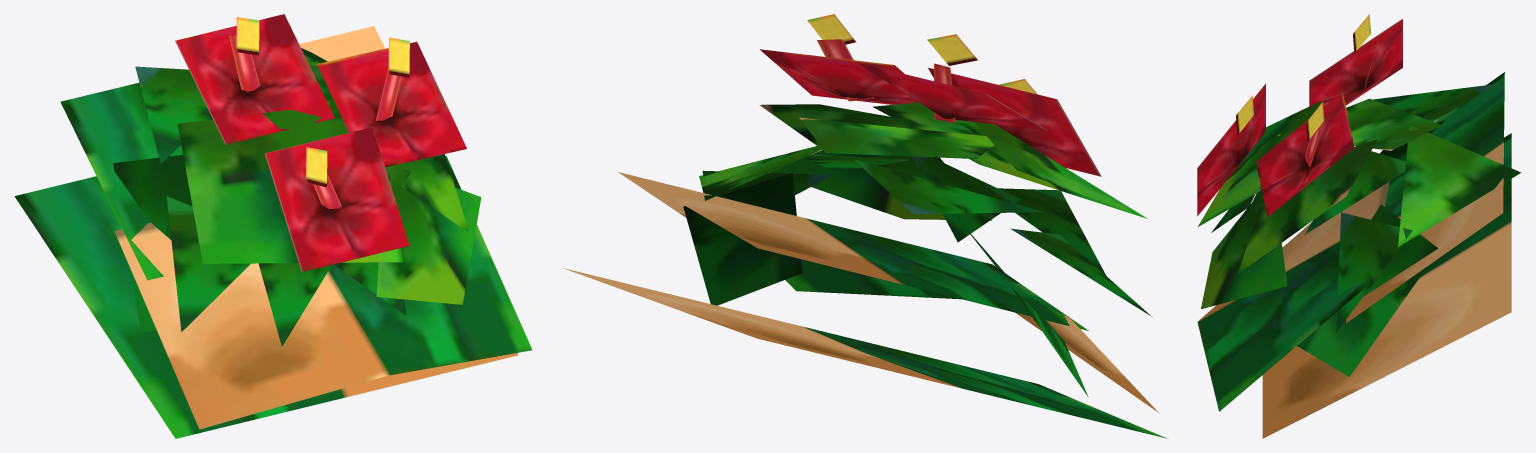
Rendered from fg_bushD_2_re.dae.
3 renders of one model, left to right at view 1: azimuth 30°, elevation 25°; view 2: azimuth 150°, elevation 25°; view 3: azimuth 270°, elevation 25°, orthographic. The views are drawn at different scales.
Visible parts, largest first — view 1: fg_bushD_2_re; view 2: fg_bushD_2_re; view 3: fg_bushD_2_re.
Part boxes in pixels (x1=…): fg_bushD_2_re: x1=14, y1=14, x2=532, y2=438; fg_bushD_2_re: x1=563, y1=14, x2=1166, y2=438; fg_bushD_2_re: x1=1197, y1=14, x2=1521, y2=438.
Bounding box in the file's own units: 47.83 × 40.3 × 36.53.
Materials: 1 (1 with a texture image).
